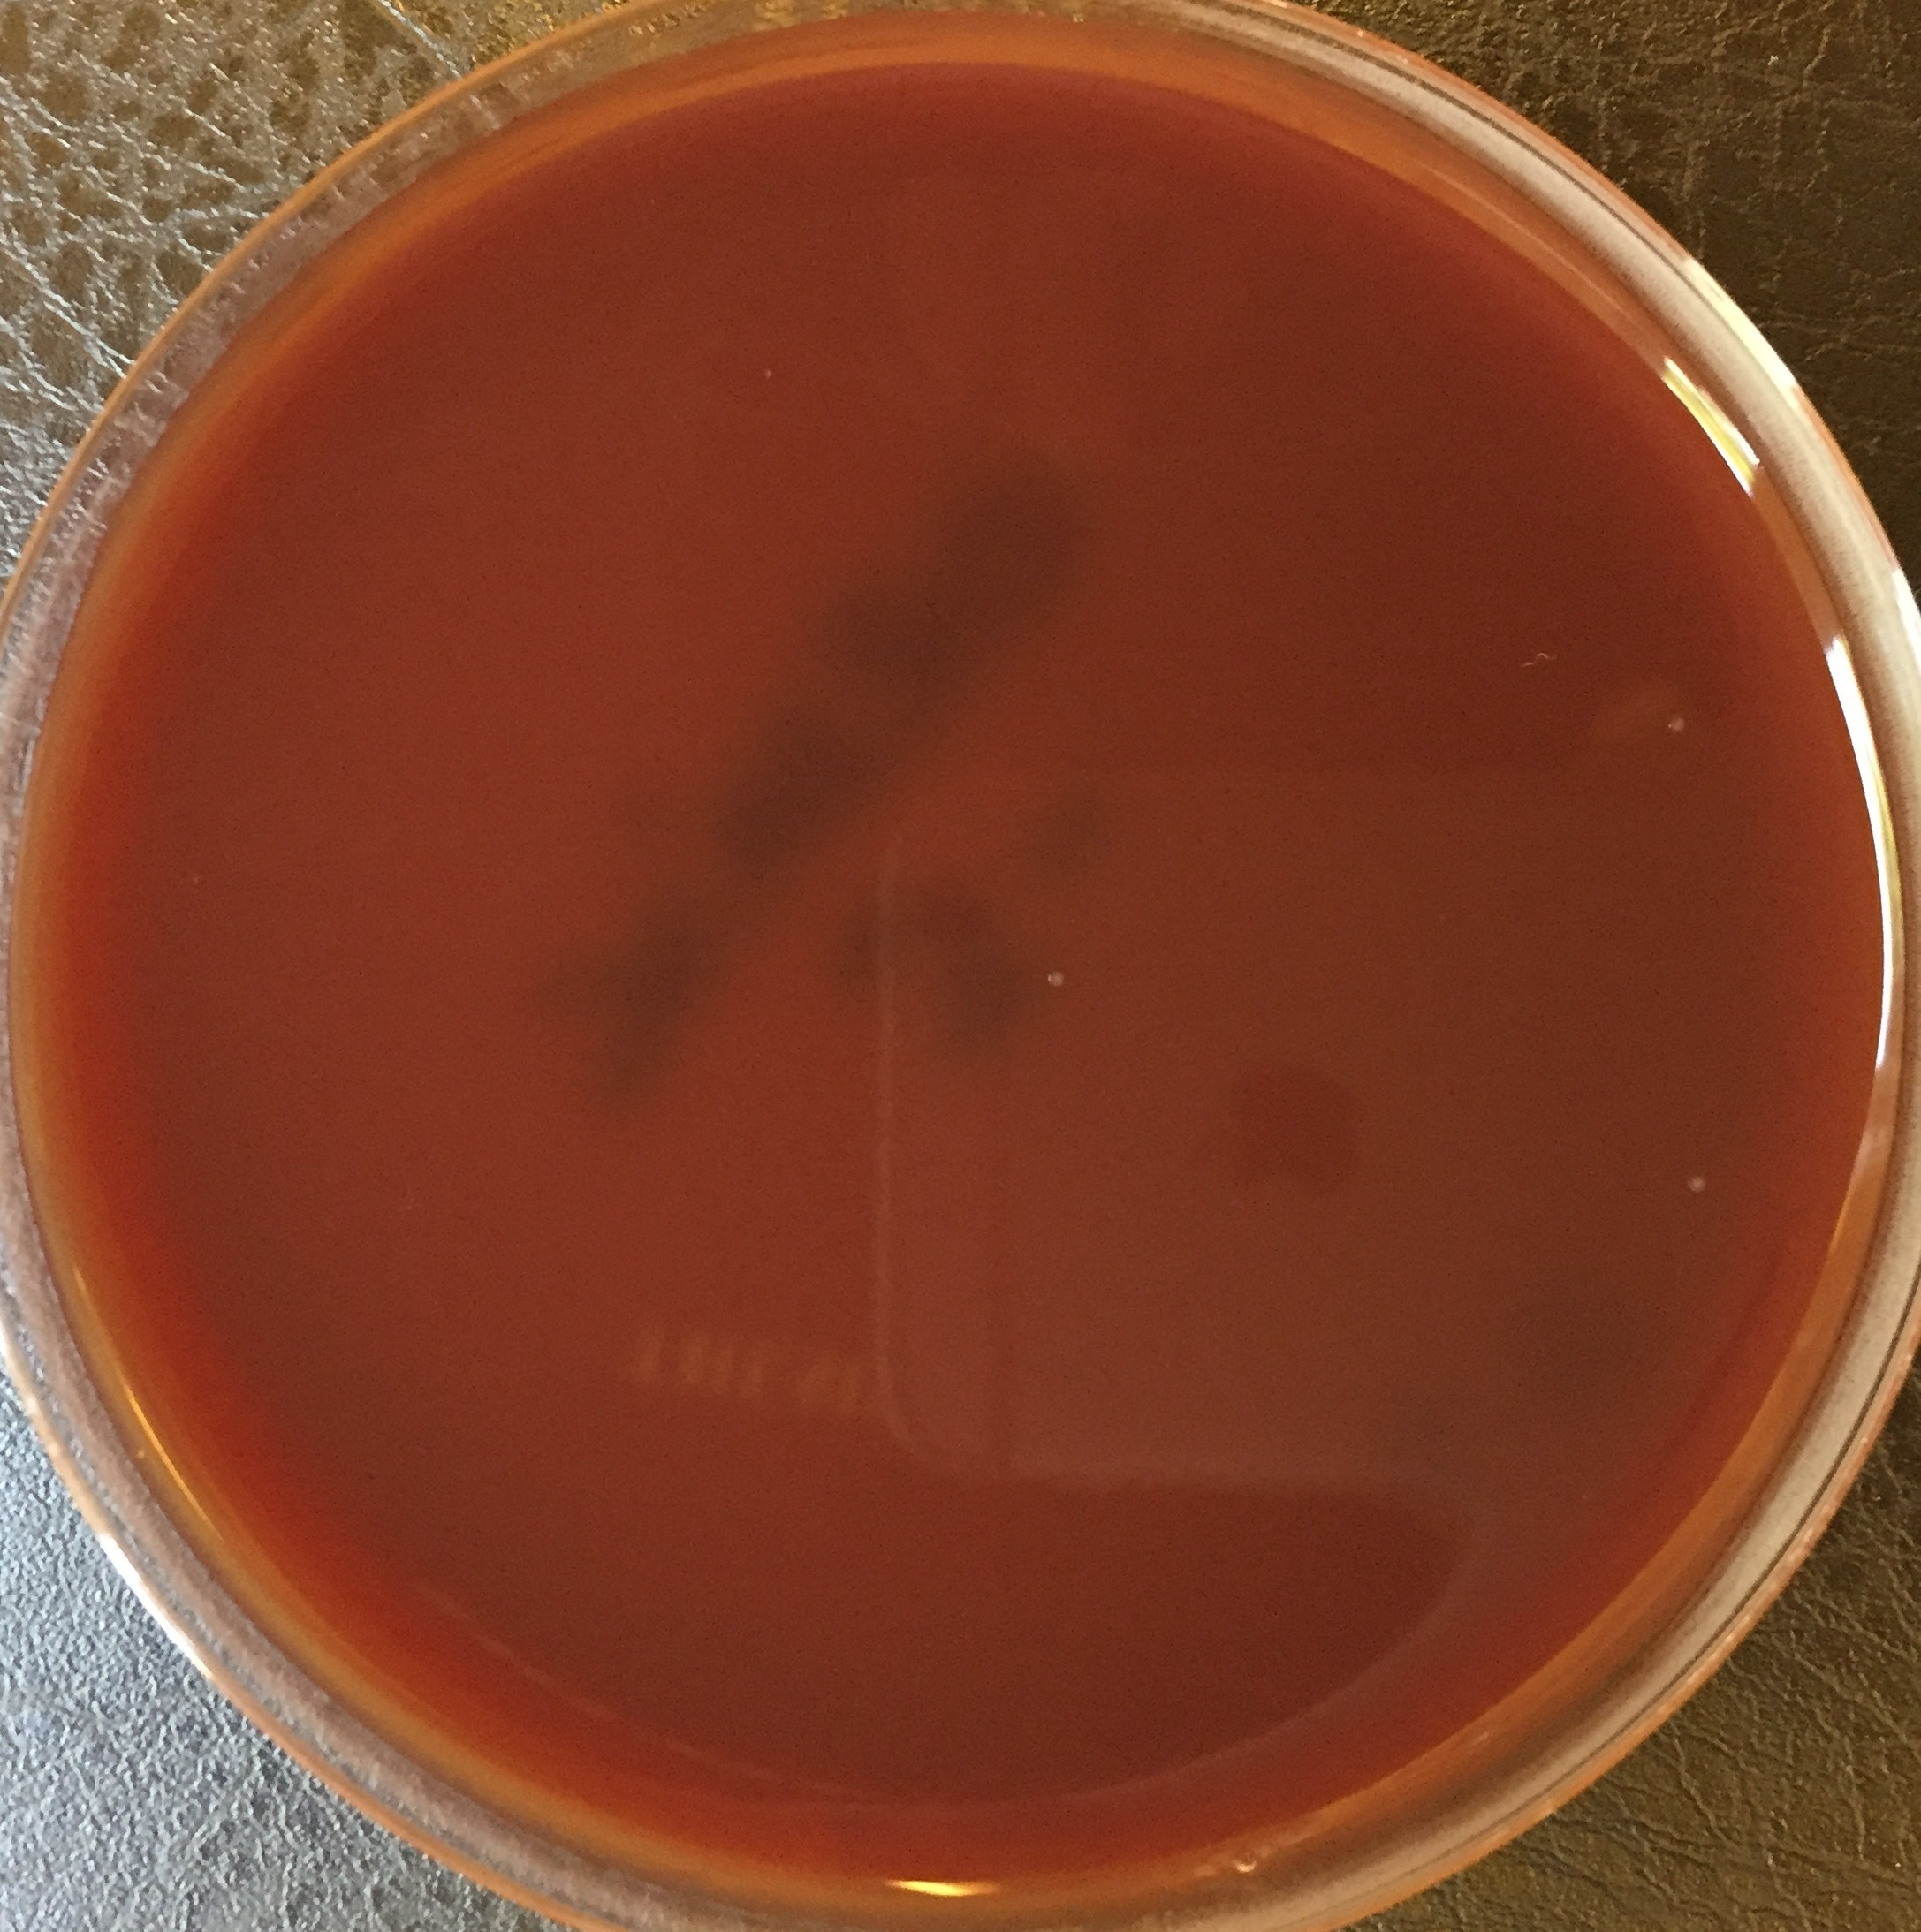sp10: (1684, 1169, 1710, 1197), (1666, 710, 1691, 738), (1041, 967, 1066, 990)
